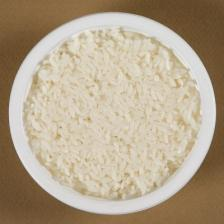rice: (22, 27, 202, 199)
